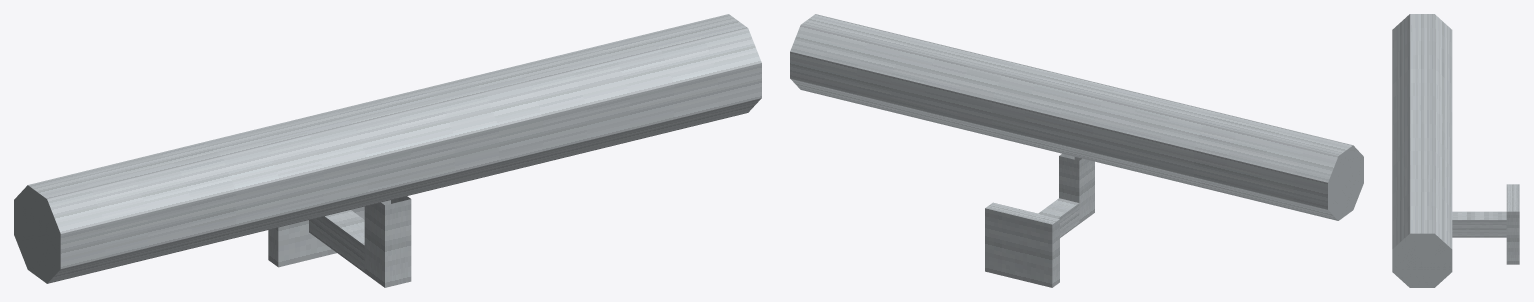
File: level.obj
3 renders of one model, left to right at view 1: azimuth 30°, elevation 25°; view 2: azimuth 150°, elevation 25°; view 3: azimuth 270°, elevation 25°, orthographic. The views are drawn at different scales.
Parts seen in each view (by area): view 1: handrail_wall_stainless_round_level; view 2: handrail_wall_stainless_round_level; view 3: handrail_wall_stainless_round_level.
Boxes of the visible parts, bbox=[...] form: handrail_wall_stainless_round_level: bbox=[14, 14, 761, 287]; handrail_wall_stainless_round_level: bbox=[790, 14, 1363, 287]; handrail_wall_stainless_round_level: bbox=[1392, 14, 1519, 287].
Bounding box in the file's own units: 1 × 0.2702 × 0.2452.
